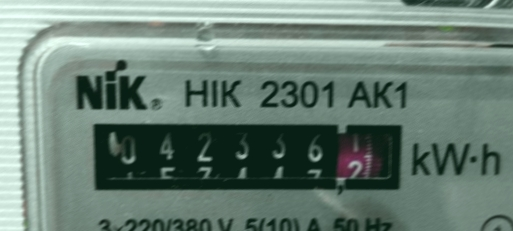0: (117, 133, 136, 166)
1: (347, 128, 359, 154)
2: (193, 129, 214, 163), (344, 159, 361, 180)
3: (230, 128, 248, 160), (269, 128, 286, 161)
4: (157, 129, 174, 161)
6: (304, 131, 324, 165)
screen: (79, 109, 415, 202)
